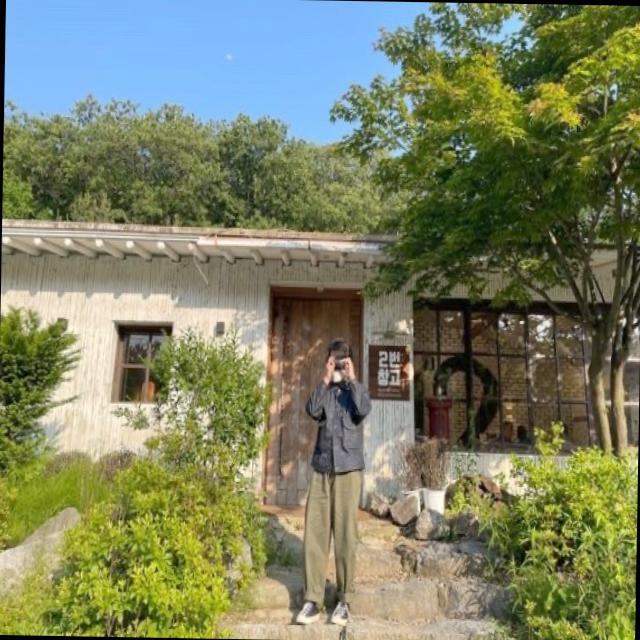cottonpants: (304, 466, 364, 610)
jacket: (302, 379, 370, 477)
